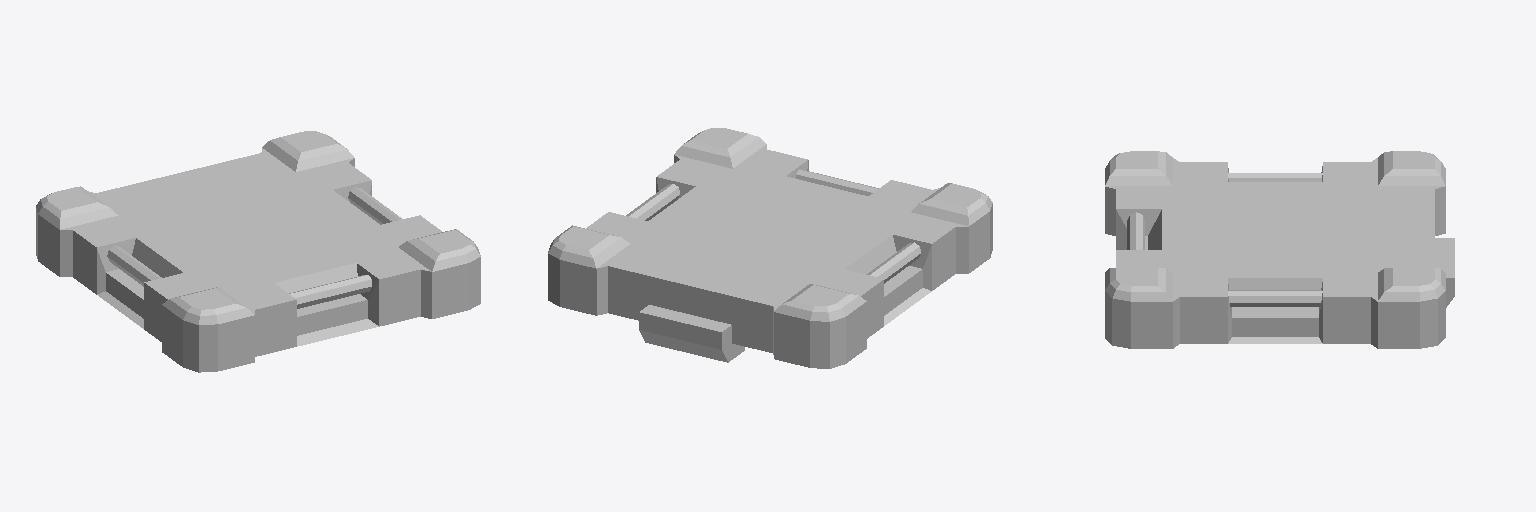
Rendered from Lootbox_Top_Cube_001.obj.
3 views of the same model, side by side, from view 1: azimuth 30°, elevation 25°; view 2: azimuth 150°, elevation 25°; view 3: azimuth 270°, elevation 25° (orthographic).
Visible parts, largest first — view 1: Lootbox_Top_Cube.001; view 2: Lootbox_Top_Cube.001; view 3: Lootbox_Top_Cube.001.
Boxes of the visible parts, box(x1,y1,x2,y2) form: Lootbox_Top_Cube.001: box(36, 131, 480, 372); Lootbox_Top_Cube.001: box(548, 128, 992, 368); Lootbox_Top_Cube.001: box(1105, 151, 1454, 348).
Size of the model in its own units: 0.5919 by 0.1433 by 0.6081.